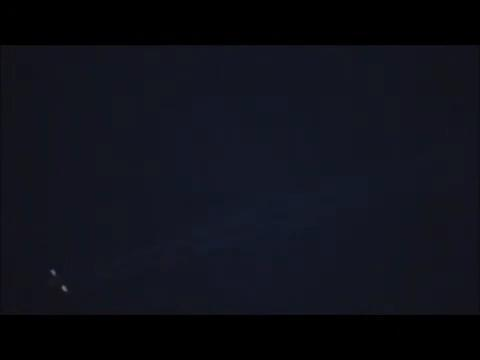Plane: (35, 258, 127, 296)
